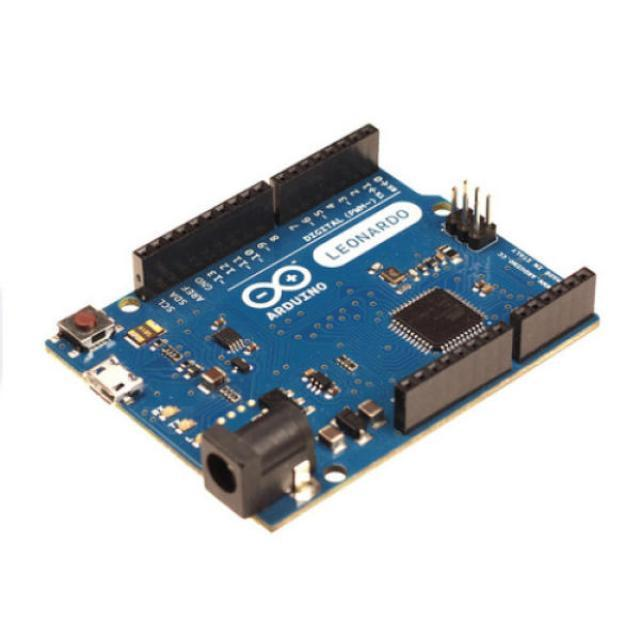Arduino-leonardo: (47, 126, 599, 527)
